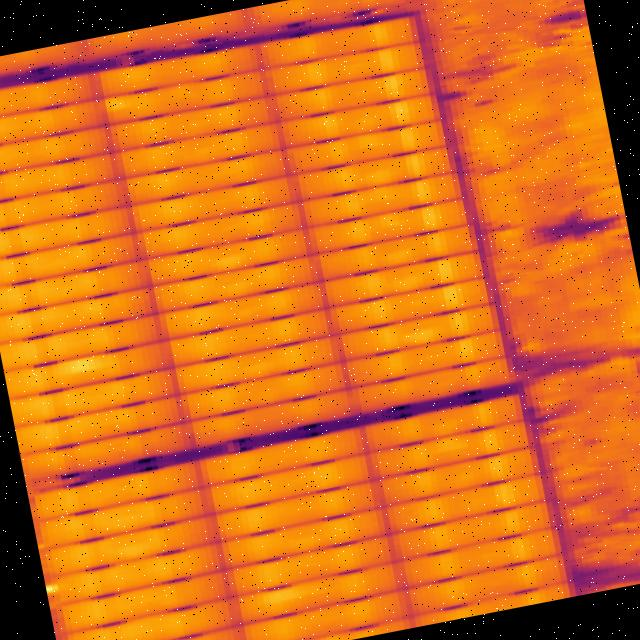Hotspot: (90, 65, 270, 129), (149, 228, 303, 285), (344, 303, 496, 358), (52, 520, 200, 574), (249, 566, 392, 620), (14, 344, 145, 395), (188, 343, 324, 388), (387, 428, 504, 472), (314, 124, 431, 167), (322, 150, 436, 193), (340, 202, 454, 244), (354, 258, 468, 298)
